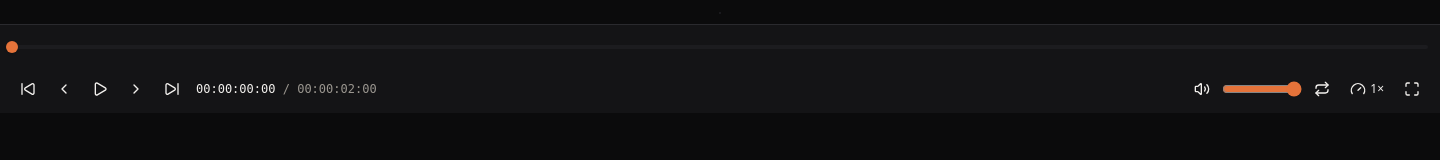
Test case: Preview › plays: the clock advances the playhead and stops at the end
Click the button named "Play": (100, 89) [84,73,116,105]
Wait 3000 ms
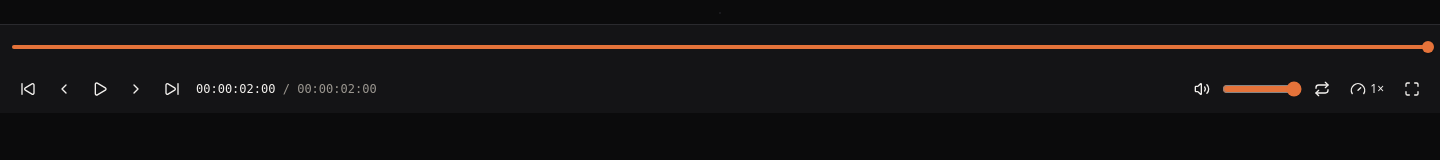
Expected: the element named "Timecode" reads "00:00:02:00 / 00:00:02:00", [196,81,377,97]
